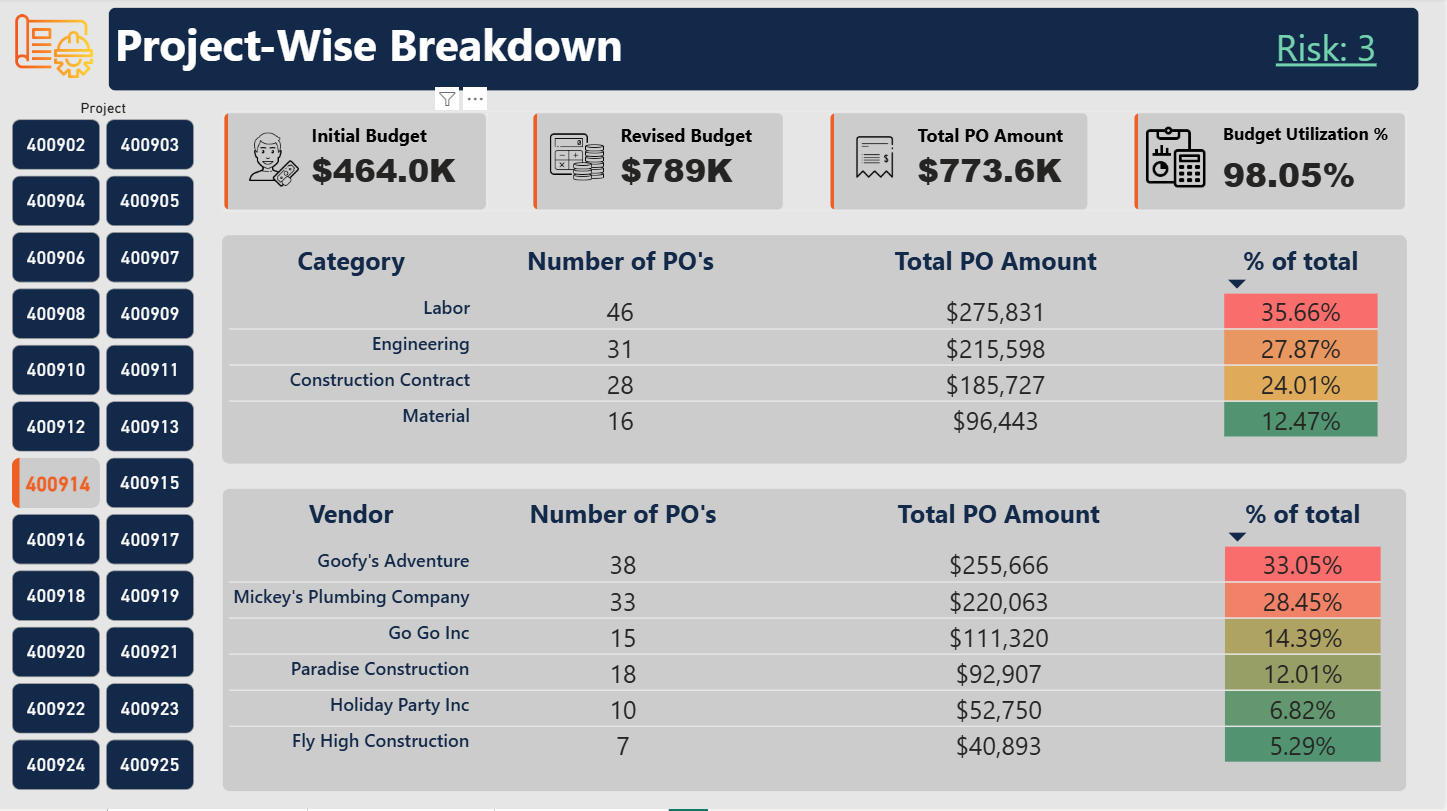

The dashboard page shown, as its layout file describes it:
{"tool":"powerbi","page":{"name":"Project-Wise Breakdown","canvas":[1920,1080],"ordinal":2},"visuals":[{"type":"cardVisual","title":"Total vendors","fields":{"Data":["Sum(Project Info.Project Initial Budget)"]},"box":[295.3,149.9,354.3,134],"z":0,"group":"g1"},{"type":"textbox","box":[144,12,1744,112],"z":1000},{"type":"cardVisual","title":"Total vendors","fields":{"Data":["Sum(PO.PO Amount)"]},"box":[1101.6,149.9,347.5,134],"z":1000,"group":"g1"},{"type":"advancedSlicerVisual","fields":{"Values":["Project Info.Project"]},"box":[15.9,134,243,922.2],"z":2000},{"type":"cardVisual","title":"Total vendors","fields":{"Data":["Sum(Project Info.Project Revised Budget)"]},"box":[706.4,149.9,338.4,134],"z":2000,"group":"g1"},{"type":"pivotTable","fields":{"Values":["CountNonNull(PO.PO)","Sum(PO.PO Amount)","PO.percentage of PO Amount spent"],"Rows":["PO.Category"]},"box":[295.3,315.7,1576.3,304.4],"z":2000,"group":"g2"},{"type":"group","id":"g1","title":"Group 1","box":[295.3,149.9,1576.3,134],"z":3000},{"type":"cardVisual","title":"Po Completion time ave","fields":{"Data":["PO.Budget Utilization %"]},"box":[1505.9,149.9,365.7,134],"z":3000,"group":"g1"},{"type":"pivotTable","fields":{"Values":["CountNonNull(PO.PO)","Sum(PO.PO Amount)","PO.percentage of PO Amount spent on vendor"],"Rows":["PO.Vendor"]},"box":[295.3,651.9,1576.3,404.3],"z":3000,"group":"g2"},{"type":"group","id":"g2","title":"Group 2","box":[295.3,315.7,1576.3,740.4],"z":4000},{"type":"cardVisual","fields":{"Data":["Min(Project Info.Project Risk Category)"]},"box":[1656,0,216,120],"z":5000},{"type":"image","box":[0,0,143.6,127.7],"z":5001}]}

Visuals, with their boxes in screenshot pixels (x1, y1, x2, y2), scaled from the page's 1920x1080 canvas onto the 1447x811 screenshot:
"Total vendors" cardVisual: x1=223, y1=113, x2=490, y2=213
textbox: x1=109, y1=9, x2=1423, y2=93
"Total vendors" cardVisual: x1=830, y1=113, x2=1092, y2=213
advancedSlicerVisual - Project Info.Project: x1=12, y1=101, x2=195, y2=793
"Total vendors" cardVisual: x1=532, y1=113, x2=787, y2=213
pivotTable - CountNonNull(PO.PO) x Sum(PO.PO Amount): x1=223, y1=237, x2=1411, y2=466
"Group 1" group: x1=223, y1=113, x2=1411, y2=213
"Po Completion time ave" cardVisual: x1=1135, y1=113, x2=1411, y2=213
pivotTable - CountNonNull(PO.PO) x Sum(PO.PO Amount): x1=223, y1=490, x2=1411, y2=793
"Group 2" group: x1=223, y1=237, x2=1411, y2=793
cardVisual - Min(Project Info.Project Risk Category): x1=1248, y1=0, x2=1411, y2=90
image: x1=0, y1=0, x2=108, y2=96
